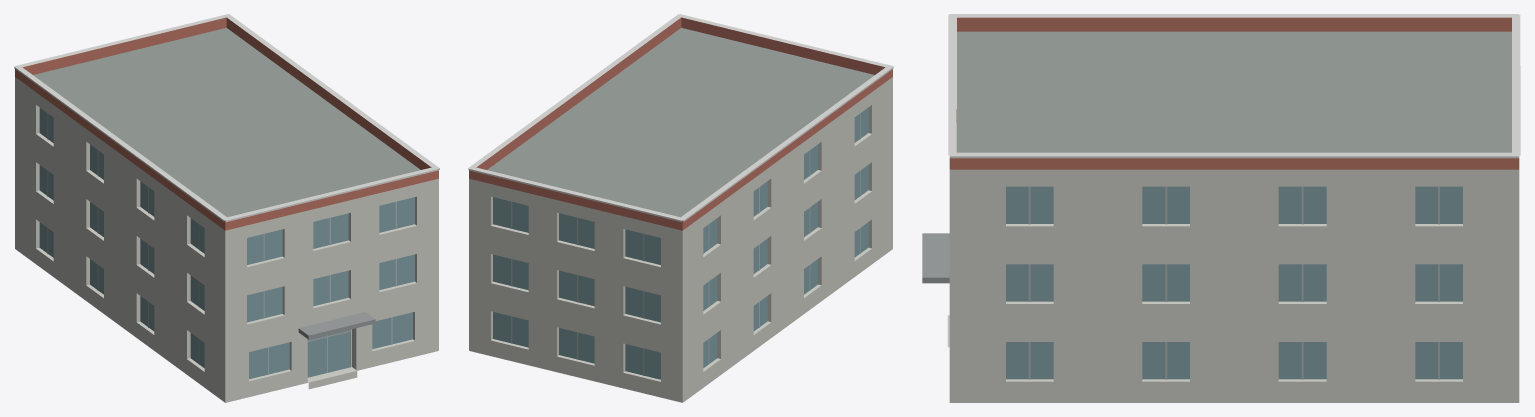
The picture shows the model from 3 angles, left to right: view 1: azimuth 30°, elevation 25°; view 2: azimuth 150°, elevation 25°; view 3: azimuth 270°, elevation 25°; orthographic projection. The views are drawn at different scales.
Visible parts, largest first — view 1: osm761589259__wall, osm761589259__roof, osm761589259__glass, osm761589259__parapet, osm761589259__trim, osm761589259__frame, osm761589259__canopy, osm761589259__entranceThreshold_0; view 2: osm761589259__wall, osm761589259__roof, osm761589259__glass, osm761589259__parapet, osm761589259__trim, osm761589259__frame; view 3: osm761589259__wall, osm761589259__roof, osm761589259__glass, osm761589259__parapet, osm761589259__trim, osm761589259__canopy, osm761589259__frame.
Part boxes in pixels (x1,y1,x2,y2): osm761589259__wall: (15,77,438,402); osm761589259__roof: (15,28,438,402); osm761589259__glass: (39,108,414,379); osm761589259__parapet: (15,17,438,230); osm761589259__trim: (14,14,439,222); osm761589259__frame: (47,113,396,374); osm761589259__canopy: (298,312,375,339); osm761589259__entranceThreshold_0: (307,367,357,389); osm761589259__wall: (469,77,892,402); osm761589259__roof: (470,28,892,402); osm761589259__glass: (493,107,868,379); osm761589259__parapet: (469,17,892,230); osm761589259__trim: (468,14,893,222); osm761589259__frame: (511,113,860,375); osm761589259__wall: (949,169,1519,402); osm761589259__roof: (950,31,1518,402); osm761589259__glass: (1006,186,1462,379); osm761589259__parapet: (949,17,1519,169); osm761589259__trim: (948,14,1520,158); osm761589259__canopy: (922,233,949,283); osm761589259__frame: (1028,186,1439,379).
Size of the model in its own units: 14.15 by 11.85 by 25.15.
